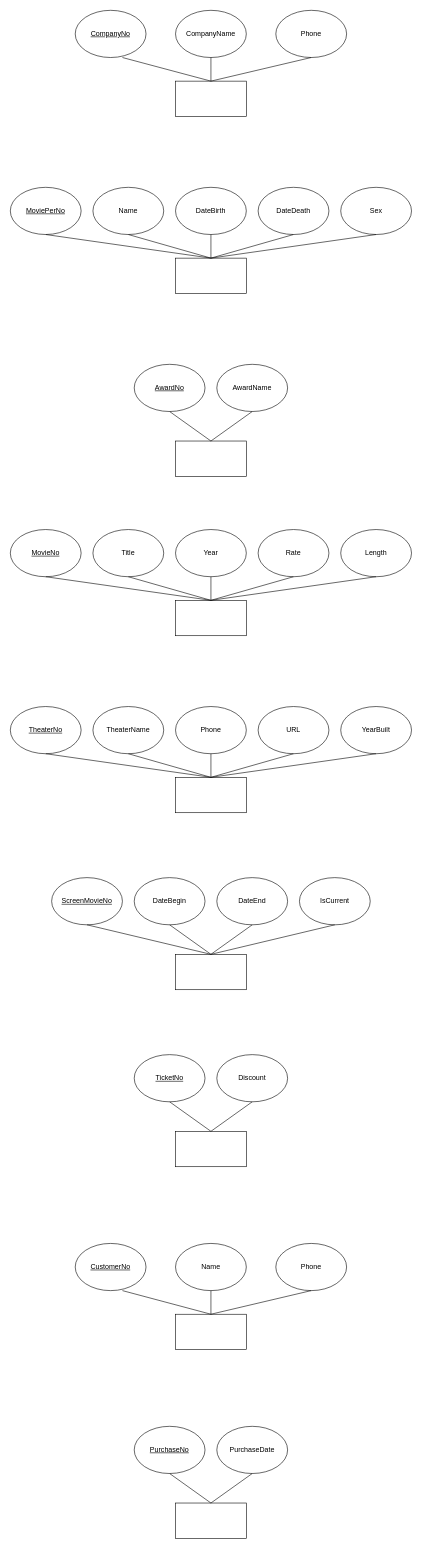
The diagram is 422 pixels wide and 1549 high, and some of its shapes have lost their labels. Here are the shapes that lost their labels. From the top down, the centre of each, then its label:
the point at 210,99: Company
the point at 210,276: MoviePer
the point at 210,458: Award
the point at 210,618: Movie
the point at 210,795: Theater
the point at 210,972: Screen_Movie
the point at 210,1149: Ticket
the point at 210,1332: Customer
the point at 210,1520: Purchase
